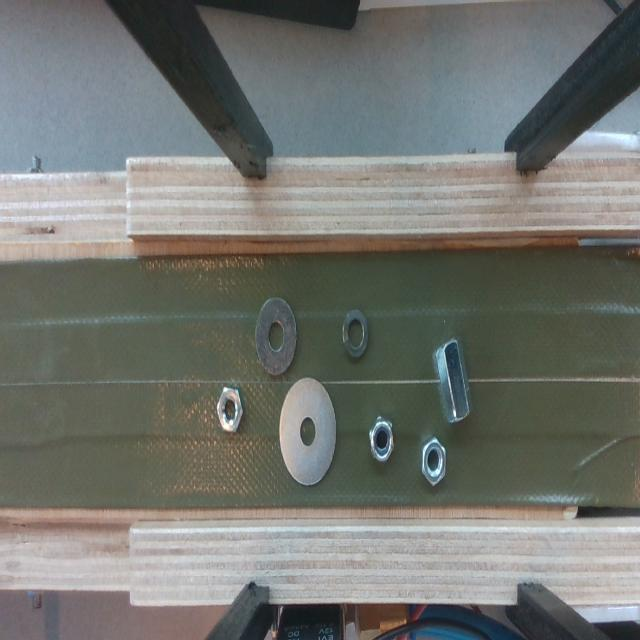Nut: (435, 338, 471, 423), (422, 438, 446, 485), (370, 416, 394, 462), (218, 388, 242, 432)
washer: (279, 378, 336, 485), (255, 300, 296, 376), (342, 309, 368, 358)
